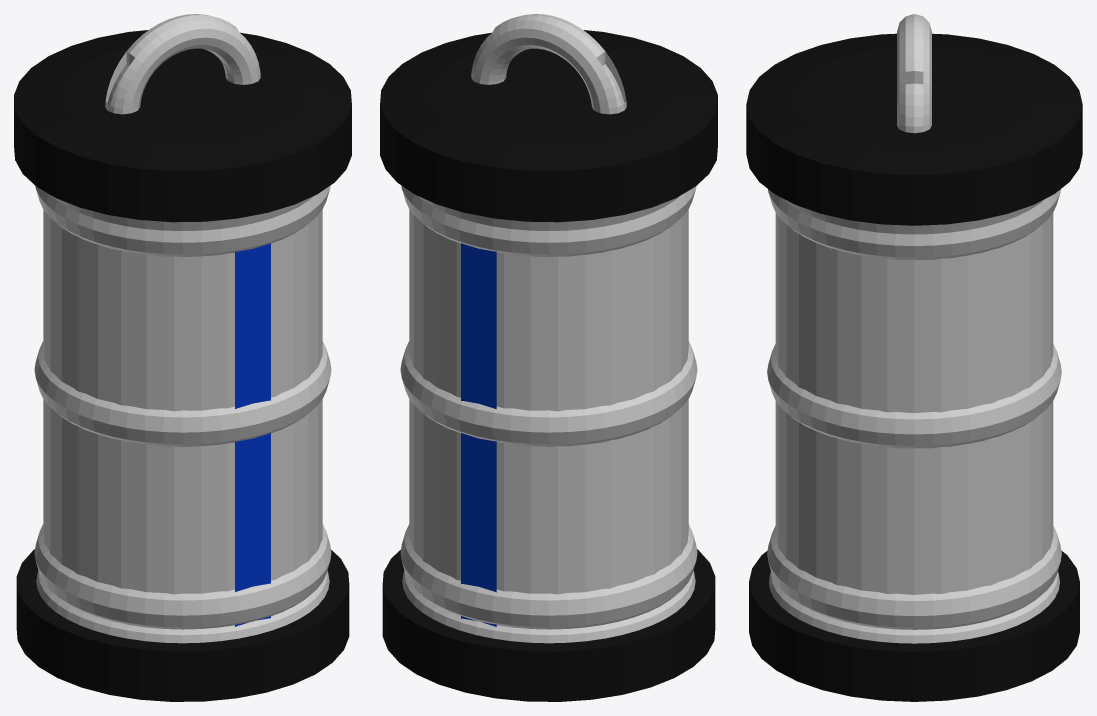
The model's file is cell.obj.
3 renders of one model, left to right at view 1: azimuth 30°, elevation 25°; view 2: azimuth 150°, elevation 25°; view 3: azimuth 270°, elevation 25°, orthographic.
Visible parts, largest first — view 1: main; view 2: main; view 3: main.
Part boxes in pixels (<box>): main: <box>14,14,351,701</box>; main: <box>380,14,717,701</box>; main: <box>746,14,1082,701</box>.
Bounding box in the file's own units: 1.99 × 3.99 × 1.99.
